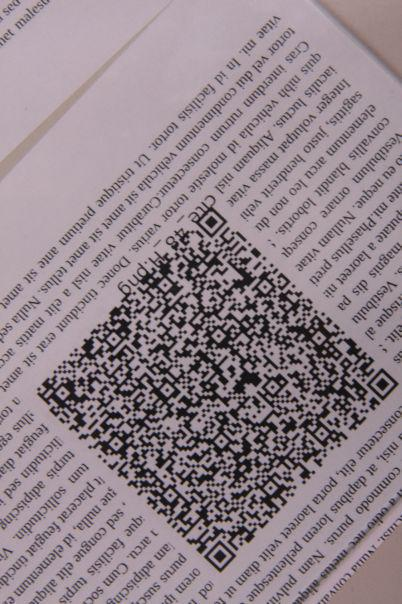Finder pattern: (193, 205, 230, 238), (203, 536, 238, 569), (368, 366, 399, 403)
